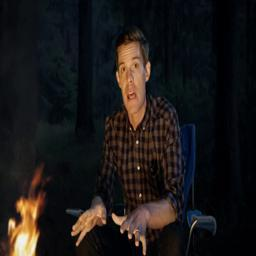fire: (5, 165, 48, 256)
